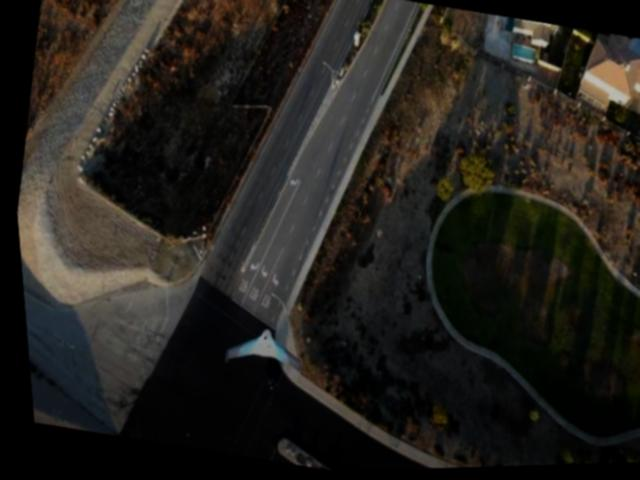iha: (213, 319, 296, 376)
